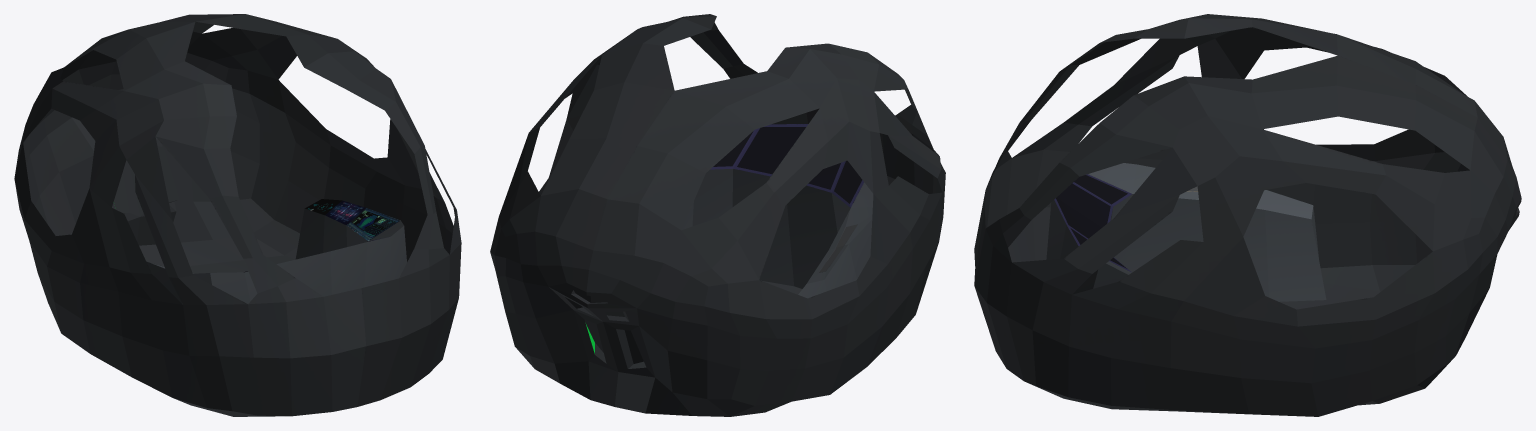
The model's file is cockpitBeta V2.1.fbx.
3 views of the same model, side by side, from view 1: azimuth 30°, elevation 25°; view 2: azimuth 150°, elevation 25°; view 3: azimuth 270°, elevation 25° (orthographic). The views are drawn at different scales.
Parts seen in each view (by area): view 1: cockpit; view 2: cockpit; view 3: cockpit.
Part boxes in pixels (box(x1,y1,x2,y2)): cockpit: box(14, 14, 461, 416); cockpit: box(490, 14, 945, 416); cockpit: box(974, 14, 1521, 416).
Size of the model in its own units: 285 by 239 by 391.
